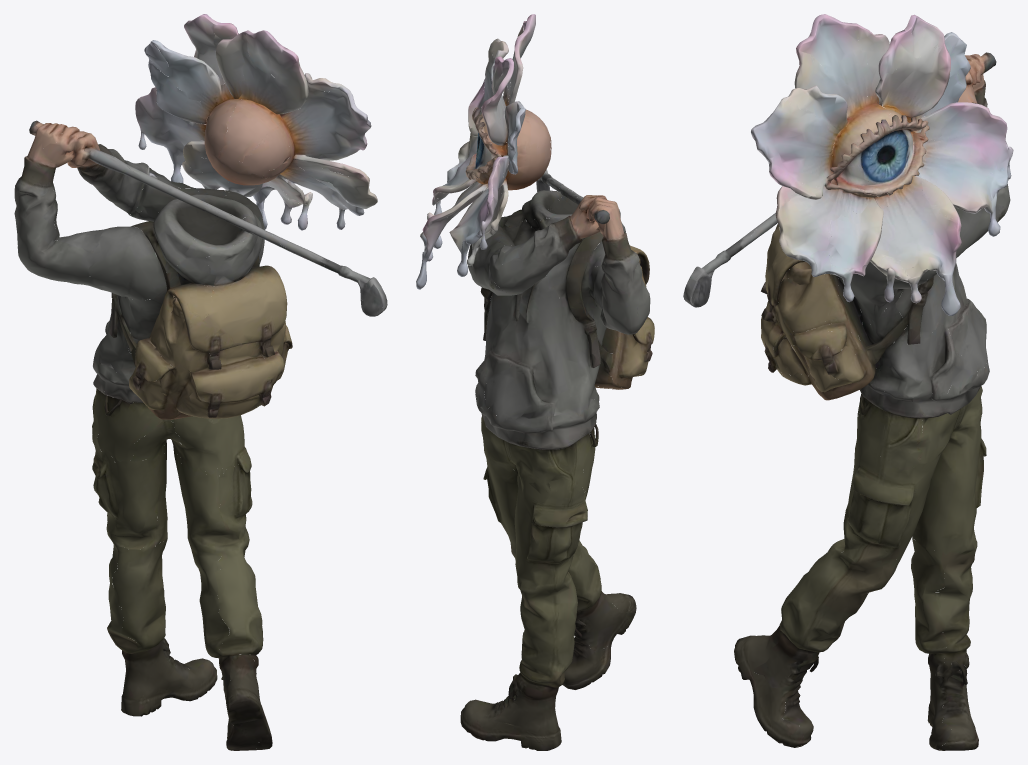
Rendered from golfer.glb.
3 renders of one model, left to right at view 1: azimuth 30°, elevation 25°; view 2: azimuth 150°, elevation 25°; view 3: azimuth 270°, elevation 25°, orthographic. The views are drawn at different scales.
Parts seen in each view (by area): view 1: tripo_node_33ec3091-d645-4af4-82c2-31afd24b9fee; view 2: tripo_node_33ec3091-d645-4af4-82c2-31afd24b9fee; view 3: tripo_node_33ec3091-d645-4af4-82c2-31afd24b9fee.
Part boxes in pixels (x1=…): tripo_node_33ec3091-d645-4af4-82c2-31afd24b9fee: x1=14, y1=14, x2=387, y2=750; tripo_node_33ec3091-d645-4af4-82c2-31afd24b9fee: x1=416, y1=14, x2=654, y2=750; tripo_node_33ec3091-d645-4af4-82c2-31afd24b9fee: x1=683, y1=14, x2=1013, y2=750.
Bounding box in the file's own units: 0.4072 × 1 × 0.4016.
1 material, 1 textured.
